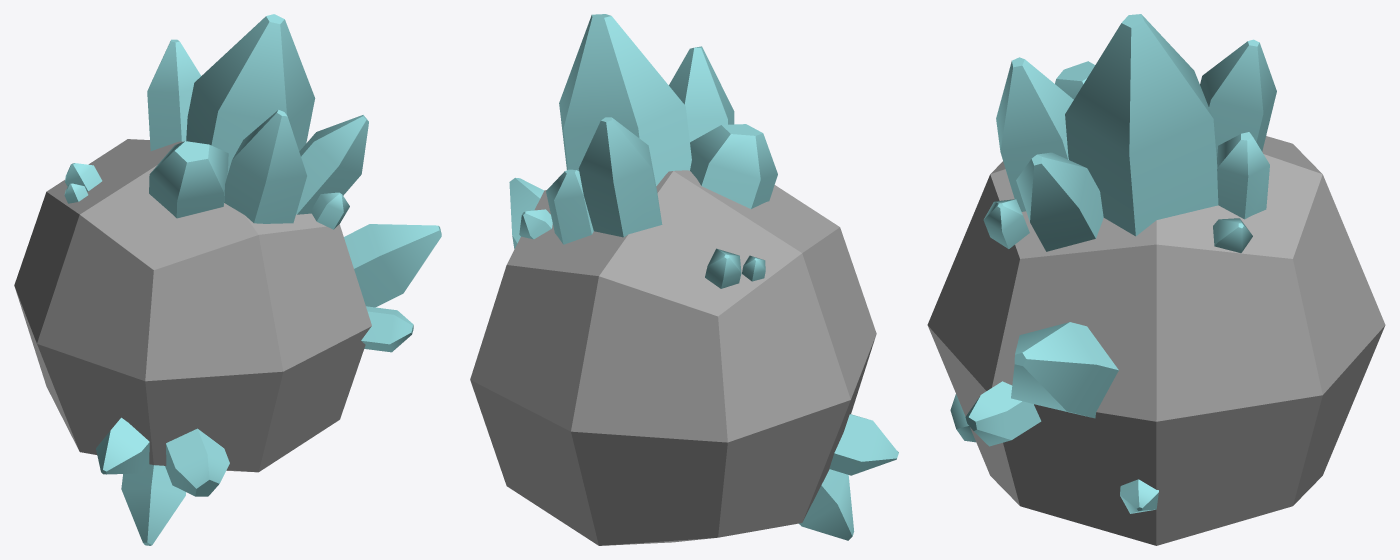
Rendered from crystal_stone03.fbx.
3 views of the same model, side by side, from view 1: azimuth 30°, elevation 25°; view 2: azimuth 150°, elevation 25°; view 3: azimuth 270°, elevation 25° (orthographic). The views are drawn at different scales.
Visible parts, largest first — view 1: Cube1, pCube1, pCube3, pCube15, pCube6, pCube16, pCube10, pCube19, pCube17, pCube12, pCube18, pCube68 (+1 smaller); view 2: Cube1, pCube1, pCube10, pCube6, pCube3, pCube12, pCube17, pCube14, pCube15, pCube65, pCube66; view 3: Cube1, pCube1, pCube15, pCube3, pCube16, pCube10, pCube14, pCube18, pCube68, pCube66, pCube67, pCube6 (+1 smaller).
Boxes of the visible parts, box(x1,y1,x2,y2) form: Cube1: box(14, 139, 371, 472); pCube1: box(186, 14, 315, 173); pCube3: box(224, 110, 306, 223); pCube15: box(344, 224, 441, 307); pCube6: box(149, 141, 228, 218); pCube16: box(296, 115, 368, 214); pCube10: box(147, 39, 200, 150); pCube19: box(165, 428, 229, 496); pCube17: box(121, 464, 186, 545); pCube12: box(96, 417, 149, 474); pCube18: box(361, 306, 413, 352); pCube68: box(310, 192, 349, 229); Cube1: box(470, 170, 876, 545); pCube1: box(559, 14, 691, 185); pCube10: box(578, 117, 662, 237); pCube6: box(690, 124, 777, 208); pCube3: box(669, 46, 734, 142); pCube12: box(829, 414, 898, 475); pCube17: box(799, 469, 854, 540); pCube14: box(546, 169, 593, 244); pCube15: box(509, 177, 544, 248); pCube65: box(705, 248, 741, 288); pCube66: box(519, 209, 552, 239); Cube1: box(927, 136, 1385, 545); pCube1: box(1065, 14, 1218, 236); pCube15: box(1011, 322, 1118, 418); pCube3: box(996, 57, 1073, 211); pCube16: box(1016, 152, 1103, 251); pCube10: box(1200, 39, 1276, 159); pCube14: box(1217, 132, 1269, 219); pCube18: box(965, 381, 1041, 446); pCube68: box(983, 199, 1029, 248); pCube66: box(1213, 218, 1252, 252); pCube67: box(1120, 479, 1158, 513); pCube6: box(1055, 61, 1094, 99).
Size of the model in its own units: 2.33 by 2.87 by 2.07.
